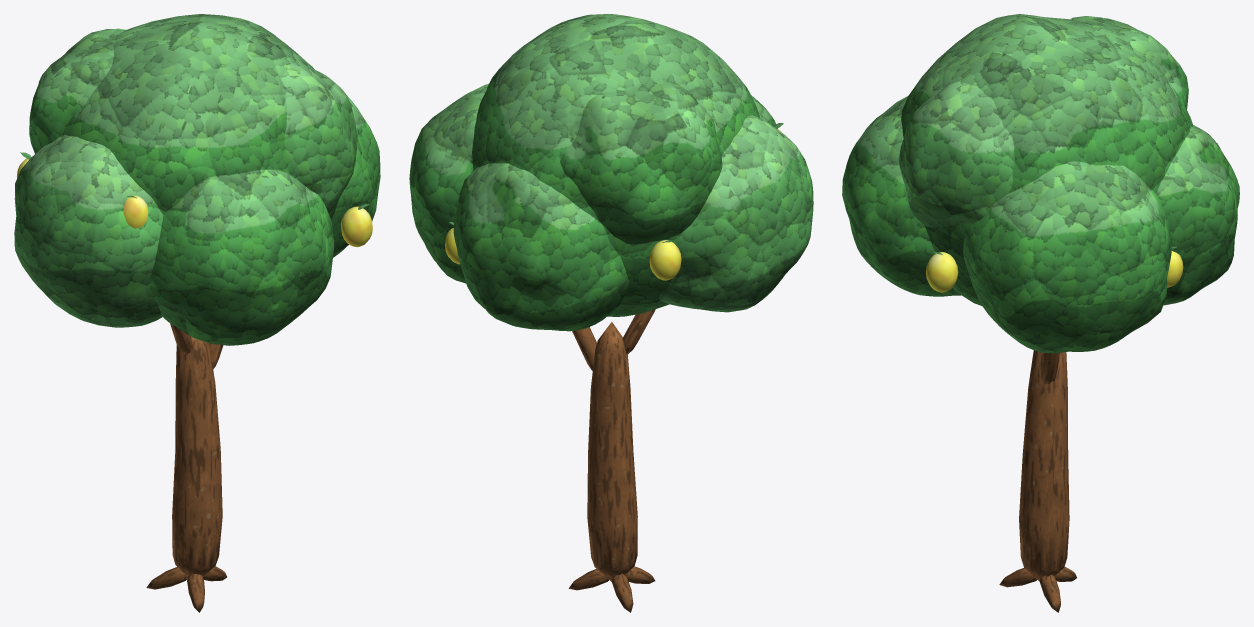
The model's file is lemon_tree.glb.
The picture shows the model from 3 angles, left to right: view 1: azimuth 30°, elevation 25°; view 2: azimuth 150°, elevation 25°; view 3: azimuth 270°, elevation 25°; orthographic projection.
Visible parts, largest first — view 1: Crown_leaf, Trunk, Fruit; view 2: Crown_leaf, Trunk, Fruit; view 3: Crown_leaf, Trunk, Fruit.
Part boxes in pixels (x1,y1,x2,y2): Crown_leaf: (14,14,380,345); Trunk: (146,323,226,612); Fruit: (17,152,372,247); Crown_leaf: (409,14,813,331); Trunk: (568,309,655,612); Fruit: (445,123,783,280); Crown_leaf: (842,14,1239,353); Trunk: (999,350,1076,612); Fruit: (926,143,1217,292).
Bounding box in the file's own units: 2.53 × 3.86 × 2.45.
Materials: 1 (1 with a texture image).
